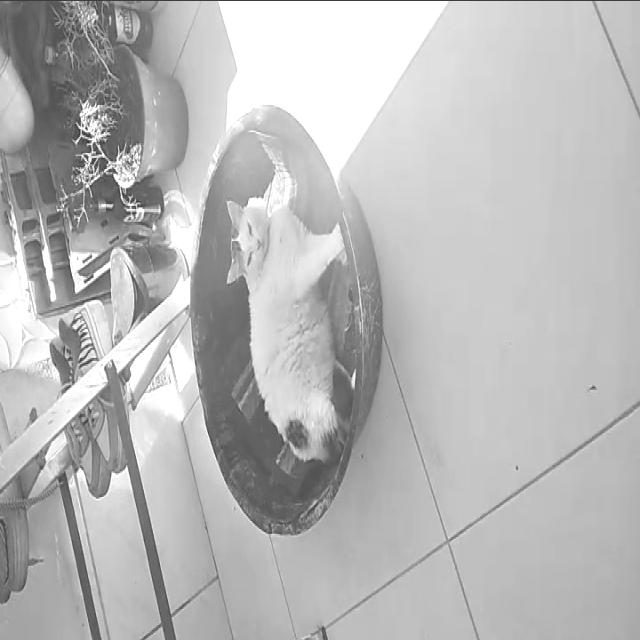Simba: (215, 143, 354, 490)
